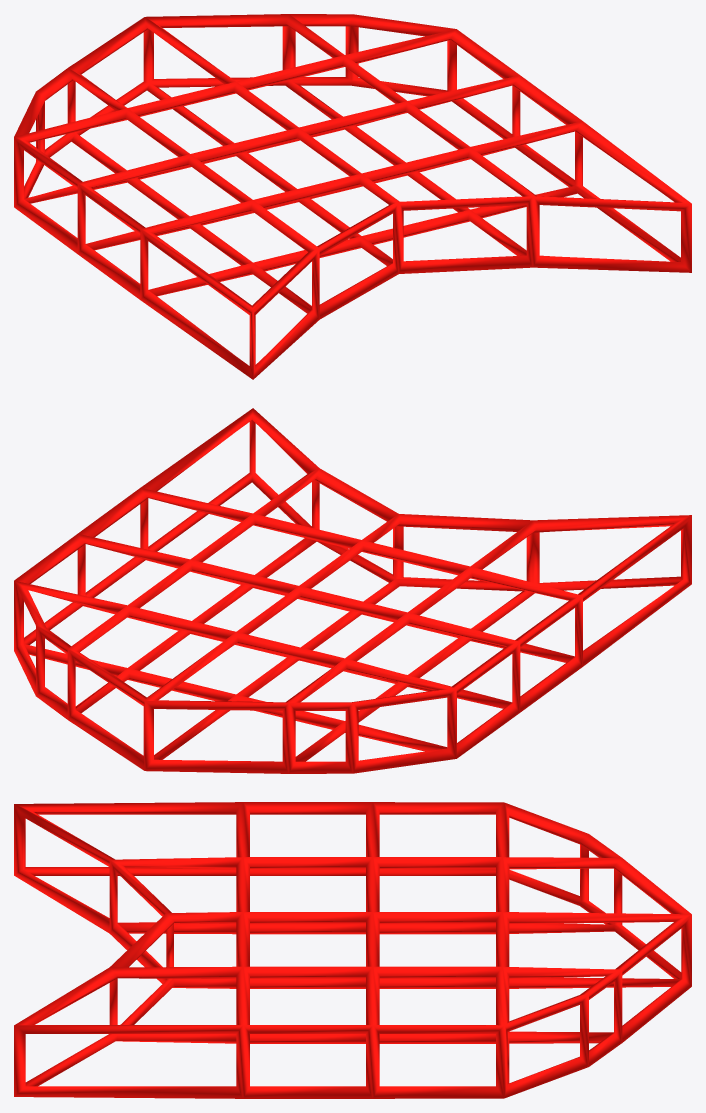
Rendered from enemy.fbx.
The picture shows the model from 3 angles, top to bottom: view 1: azimuth 30°, elevation 25°; view 2: azimuth 150°, elevation 25°; view 3: azimuth 270°, elevation 25°; orthographic projection. The views are drawn at different scales.
Visible parts, largest first — view 1: enemy; view 2: enemy; view 3: enemy.
Boxes of the visible parts, x1=… form: enemy: x1=14, y1=14, x2=691, y2=379; enemy: x1=14, y1=408, x2=691, y2=773; enemy: x1=14, y1=802, x2=691, y2=1098.
Bounding box in the file's own units: 400 × 64.37 × 513.
